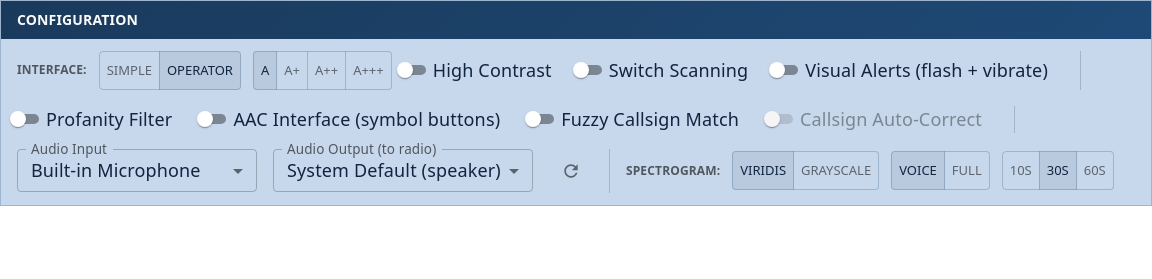
Test: ConfigPanel › shows fallback output option when outputDevices prop is empty
Click the dropdown named "audio output (to radio)".
click(394, 170)  # box [287,158,501,182]
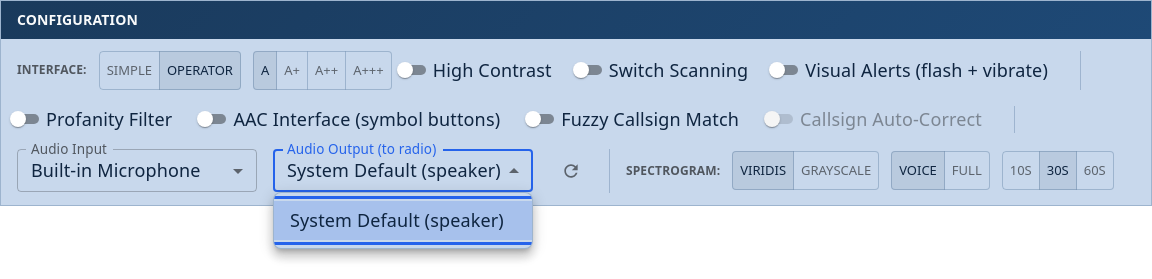
Now the option "System Default (speaker)" is shown, box [274,201,532,240]
